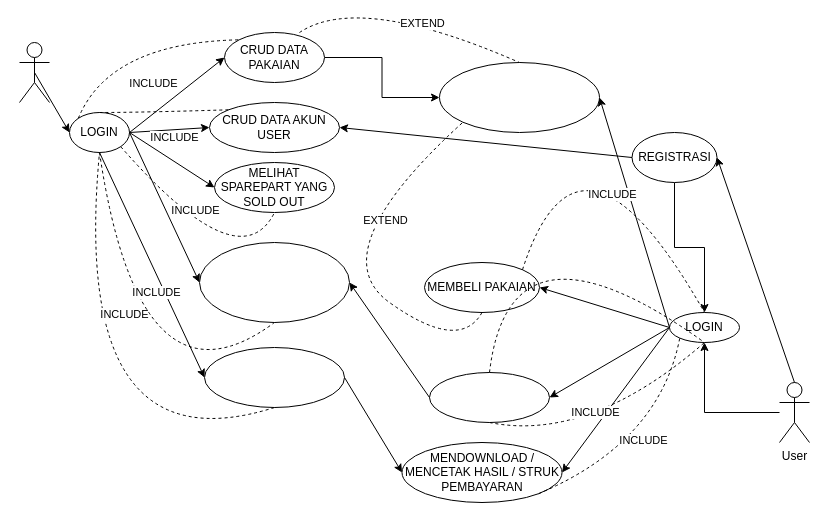
Image size: 827x520. Some labels were removed from this diagram. The centre of each missing label's shape, as x and y in pixels:
"Admin" goes at point 34,72.
"MELAKUKAN PEMBAYARAN" goes at point 489,397.
"MENAMPILKAN PAKAIAN READY DI HALAMAN PUBLIK" goes at point 519,97.
"MENGELUARKAN STRUK PEMBAYARAN" goes at point 274,377.
"MENGONFIRMASI PEMBAYARAN YANG DILAKUKAN OLEH USER" goes at point 274,282.
